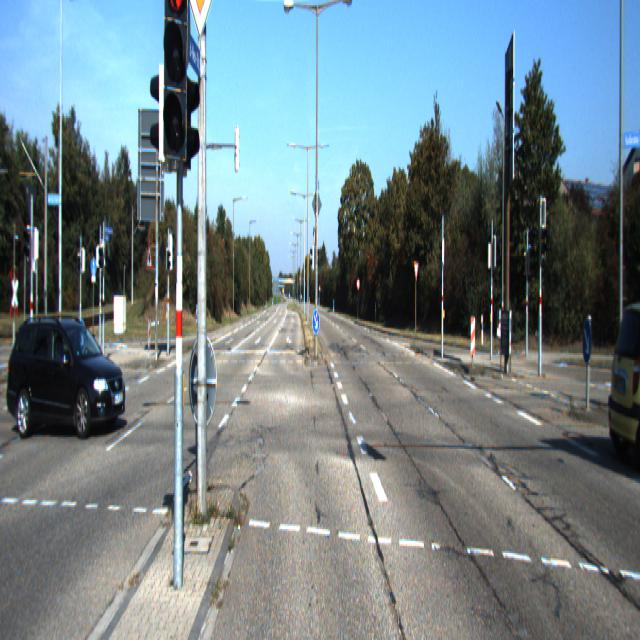Car: (3, 307, 130, 435), (605, 302, 639, 476)
